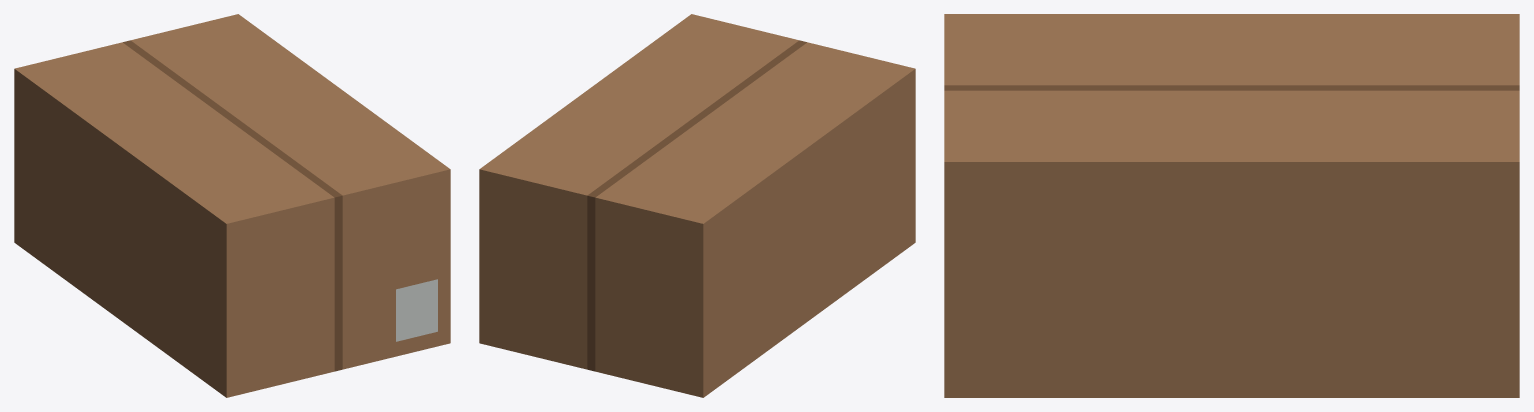
File: CardboardBox_01.glb
3 renders of one model, left to right at view 1: azimuth 30°, elevation 25°; view 2: azimuth 150°, elevation 25°; view 3: azimuth 270°, elevation 25°, orthographic. The views are drawn at different scales.
Parts seen in each view (by area): view 1: CardBoardBox_01; view 2: CardBoardBox_01; view 3: CardBoardBox_01.
Part boxes in pixels (x1=…): CardBoardBox_01: x1=14, y1=14, x2=450, y2=397; CardBoardBox_01: x1=479, y1=14, x2=915, y2=397; CardBoardBox_01: x1=944, y1=14, x2=1519, y2=397.
Size of what is drawn, in the model's own units: 0.8408 by 0.6241 by 1.38.
1 material, 1 textured.
